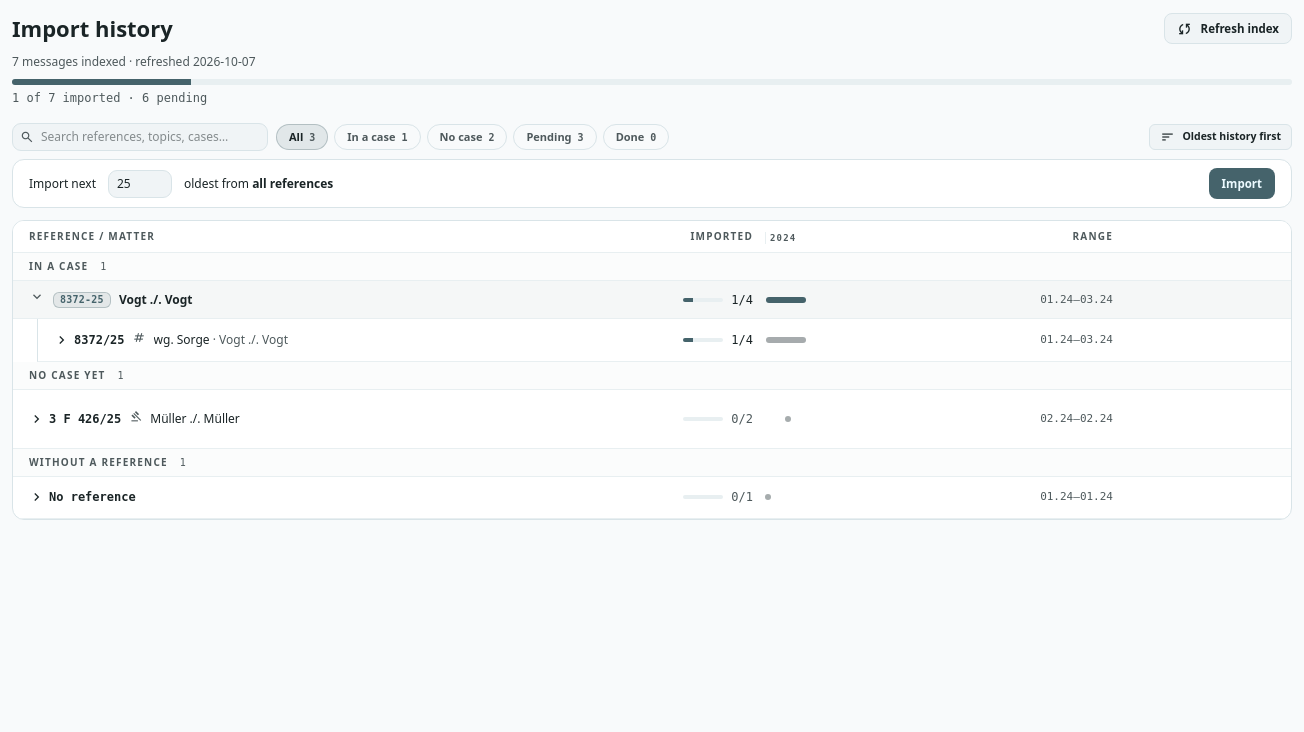
Test case: import: search and chips narrow the list; an empty result offers to clear
The image size is (1304, 732).
Expected: the button named "Expand 8372/25" is shown, x1=54 y1=331 x2=125 y2=349
Click the button "No case 2".
click(467, 137)  # box x1=426 y1=124 x2=507 y2=150
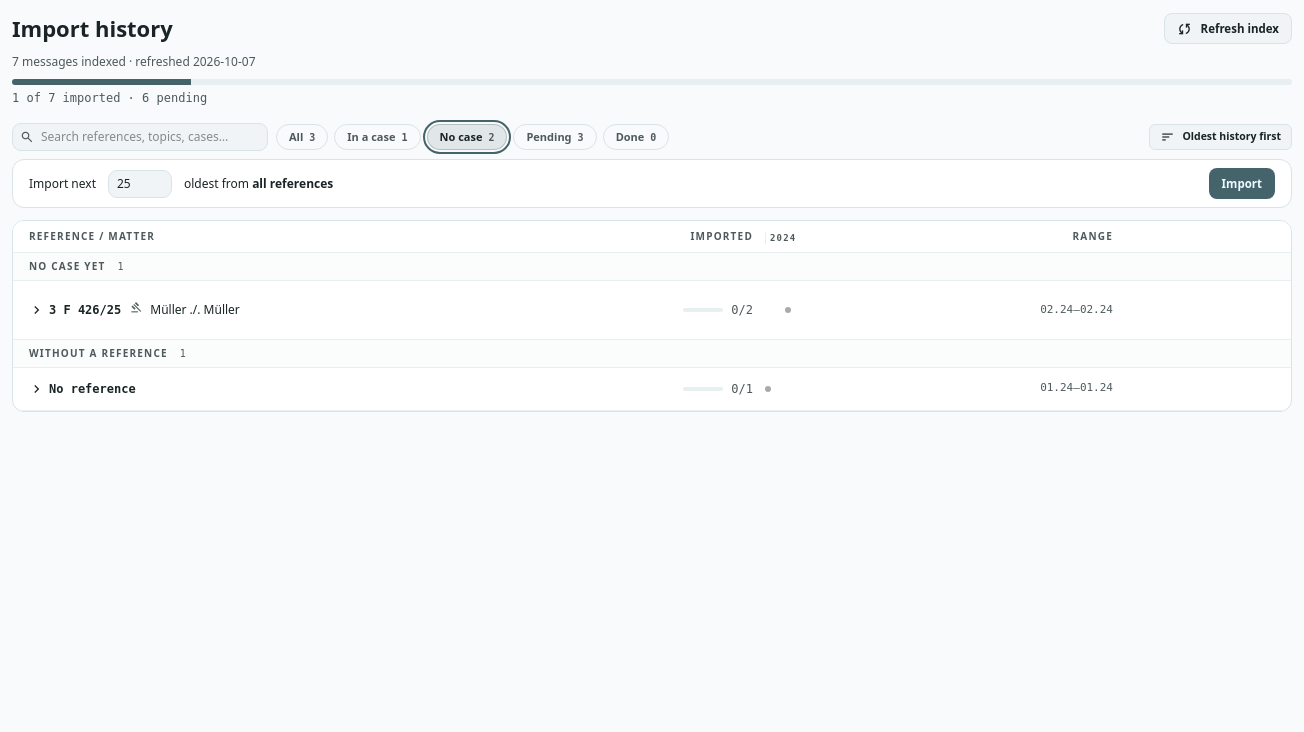
Type "zzzz" into the search field labelled "Search references".
click(140, 137); type("zzzz")  # box x1=12 y1=123 x2=268 y2=151
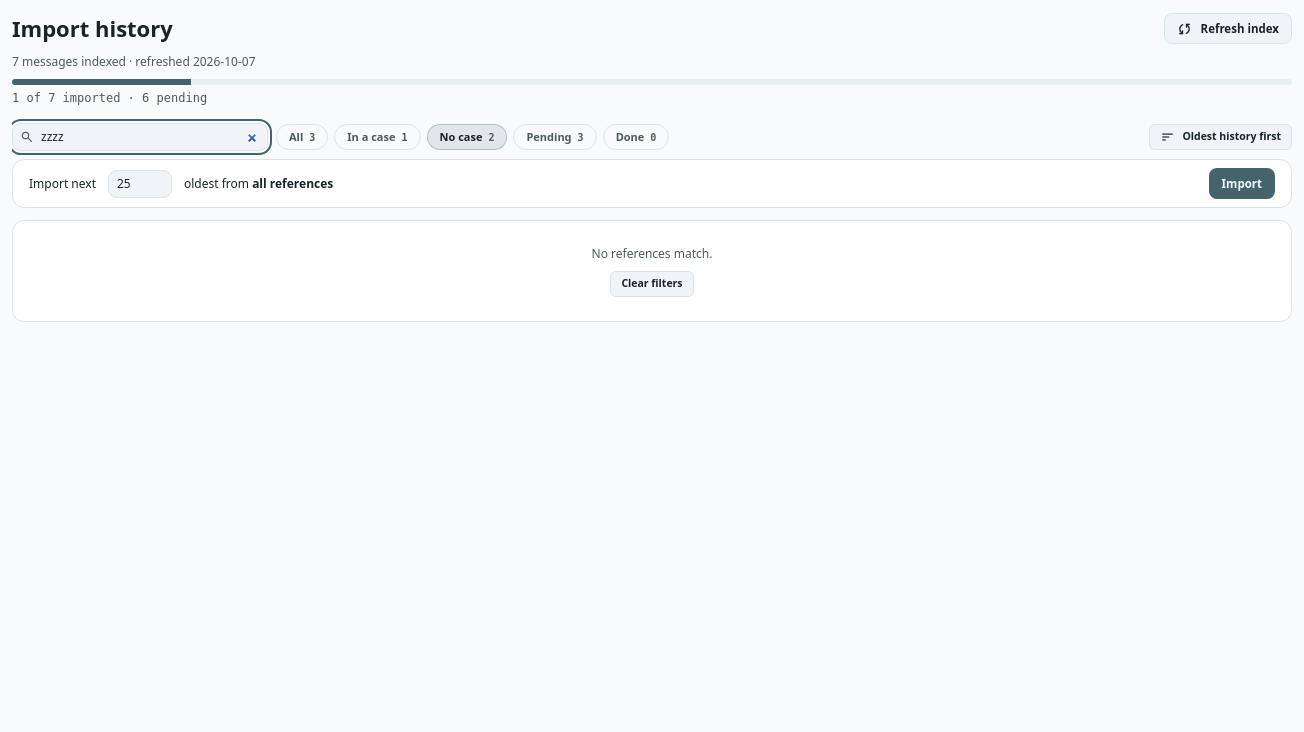
Expected: the text "No references match." is shown, x1=592 y1=245 x2=712 y2=262
Click the button "Clear filters".
click(652, 284)  # box x1=610 y1=271 x2=694 y2=297
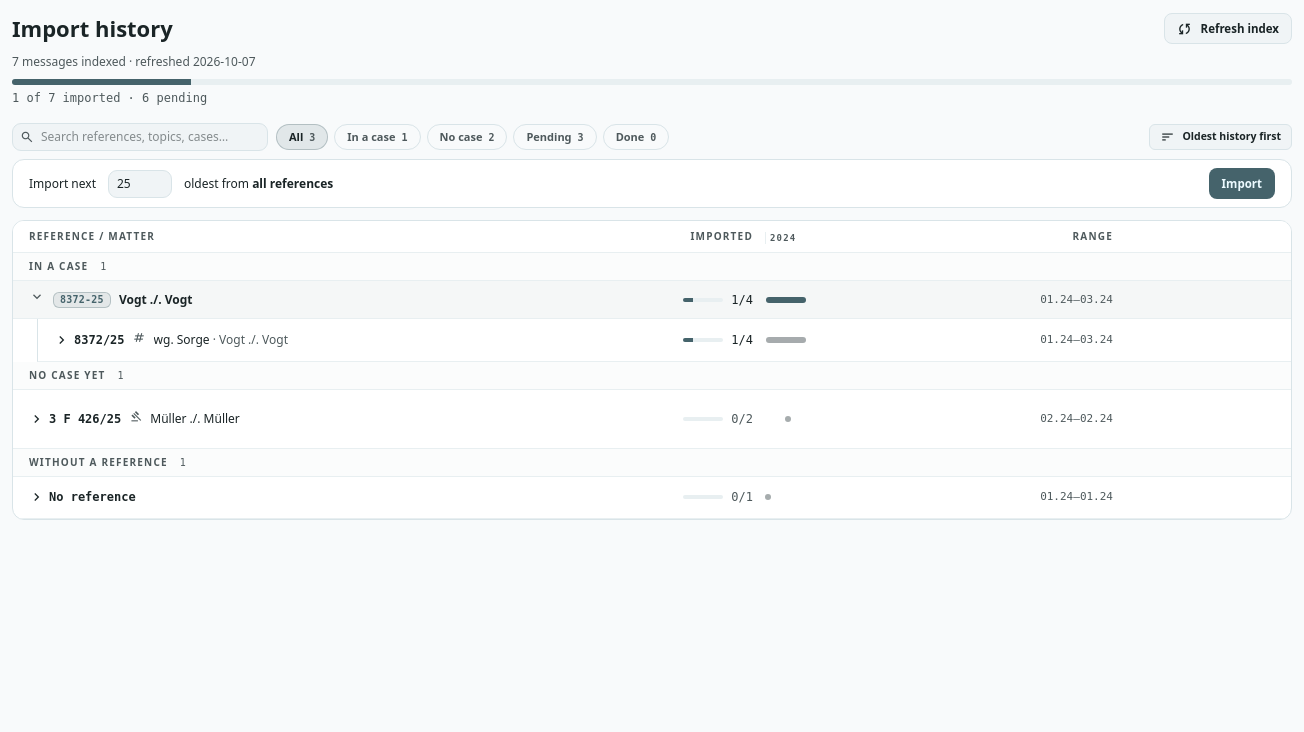
Expected: the button named "Expand 8372/25" is shown, x1=54 y1=331 x2=125 y2=349
